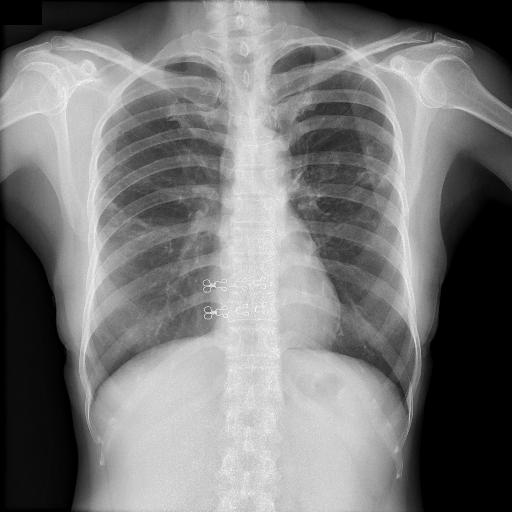Infiltration: (54, 154, 134, 212), (329, 118, 377, 166)
Lung Opacity: (48, 134, 144, 208), (279, 121, 357, 169)
Pulmonary fibrosis: (273, 116, 355, 180), (52, 180, 138, 226)
